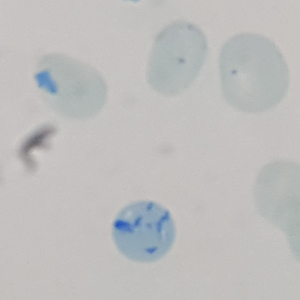aggregate reticulocyte: (109, 199, 176, 264)
erythrocyte: (30, 51, 110, 121)
punctate reticulocyte: (215, 31, 293, 114), (143, 18, 210, 99)
